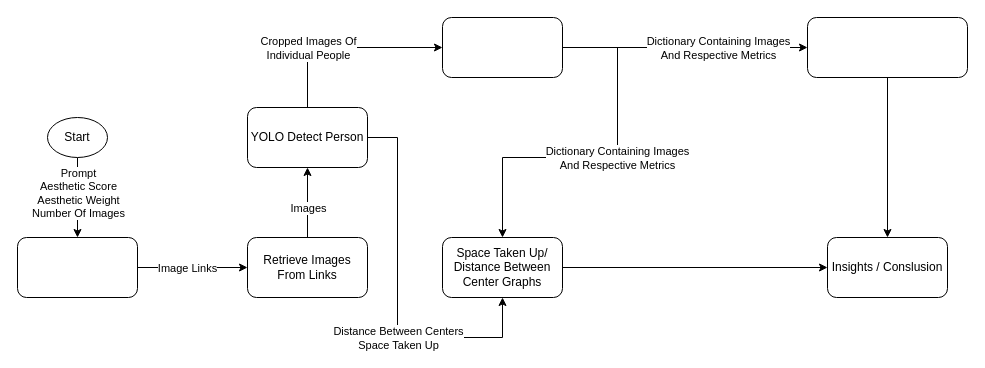
This 985x368 diagram has some shape labels left out. Here are the shapes that lost their labels. From the top down, the centre of each, then its label:
At (x=502, y=47): "Deep Face Feature Estimation".
At (x=887, y=47): "Age/Race/Gender/Emotion Graphs & Metrics".
At (x=77, y=267): "Retrieve Images Links".
